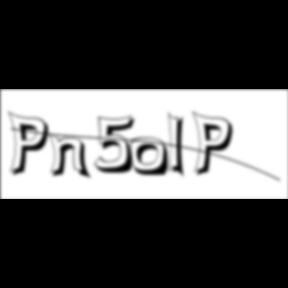5: (94, 114, 142, 176)
I: (168, 110, 192, 182)
P: (192, 110, 240, 180), (8, 110, 55, 180)
n: (48, 132, 94, 181)
o: (130, 137, 172, 179)
